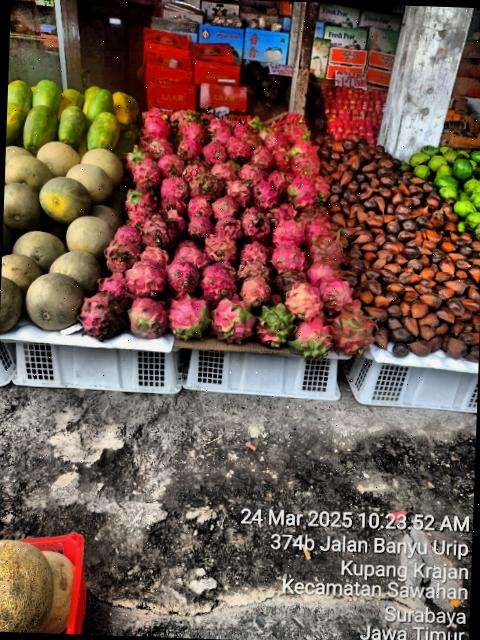buah-naga-belum-matang: (162, 291, 214, 343), (123, 288, 169, 340), (212, 298, 258, 342), (292, 318, 333, 360), (256, 307, 298, 348), (284, 286, 322, 318), (201, 233, 240, 264), (286, 176, 320, 208), (240, 274, 270, 306), (121, 187, 159, 210), (234, 258, 272, 278), (121, 145, 152, 168), (168, 240, 203, 260)
buah-naga-matang: (77, 292, 127, 342), (329, 308, 378, 356), (123, 261, 168, 296), (166, 258, 205, 294), (270, 241, 310, 274), (202, 264, 236, 300), (94, 272, 132, 304), (268, 214, 306, 244), (141, 220, 179, 248), (316, 281, 354, 308), (290, 146, 323, 177), (309, 236, 344, 264), (240, 214, 272, 244), (103, 242, 137, 270), (308, 258, 346, 282), (132, 160, 162, 188), (252, 180, 280, 208), (224, 180, 253, 207), (190, 173, 221, 198), (185, 216, 217, 240), (126, 204, 156, 227), (160, 174, 188, 198), (142, 115, 171, 138), (237, 242, 270, 262), (178, 121, 208, 143), (212, 196, 240, 219), (224, 140, 252, 162), (237, 163, 269, 182), (147, 136, 173, 158), (214, 217, 241, 238), (303, 215, 330, 236), (208, 121, 233, 143), (139, 248, 169, 266), (268, 202, 298, 220), (210, 162, 238, 181), (186, 198, 212, 218), (160, 196, 186, 216), (201, 140, 227, 160), (158, 156, 183, 176), (176, 140, 202, 158), (116, 222, 138, 242), (252, 146, 272, 168), (264, 128, 286, 148), (272, 150, 291, 173), (234, 120, 254, 138), (182, 163, 208, 176), (268, 172, 292, 185)
